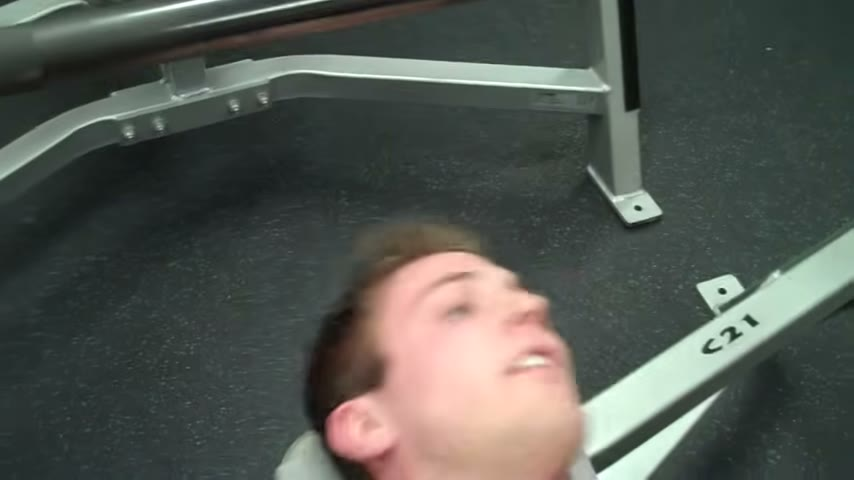barbell_plate_side: (0, 0, 79, 451)
